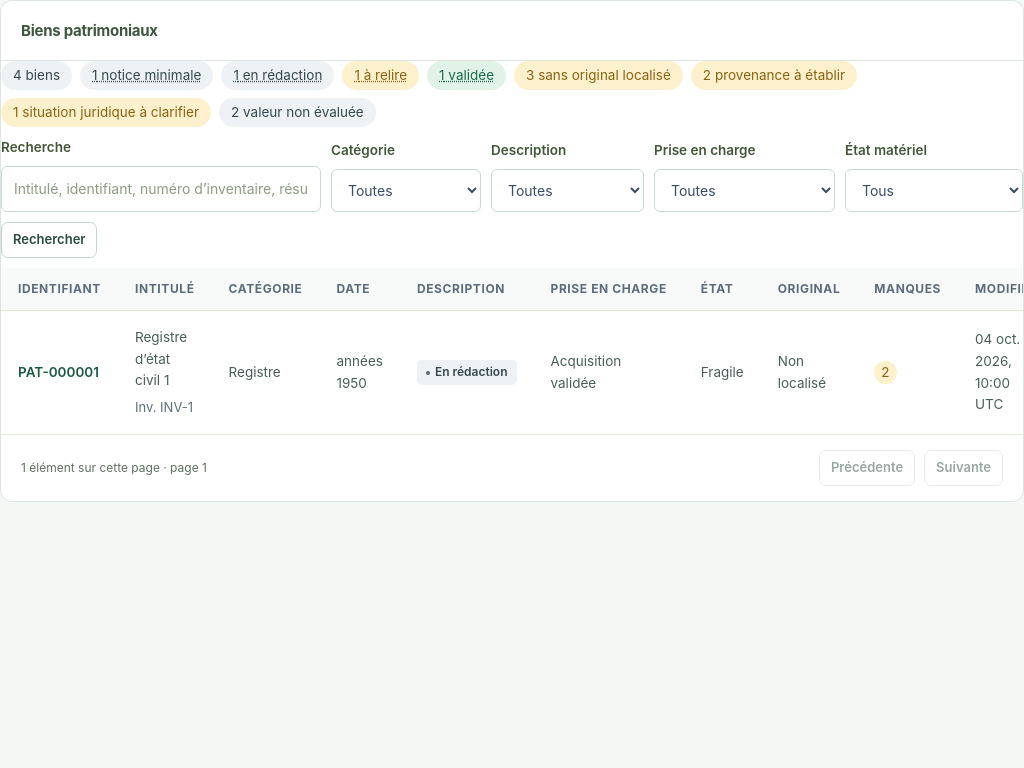
Test case: sans l’habilitation, le passage est désactivé et le titre dit laquelle manque
What coordinates should you click on to do the following:
click the button "PAT-000001"
I would click on:
 (58, 373)
Its box is [18,362,99,383].
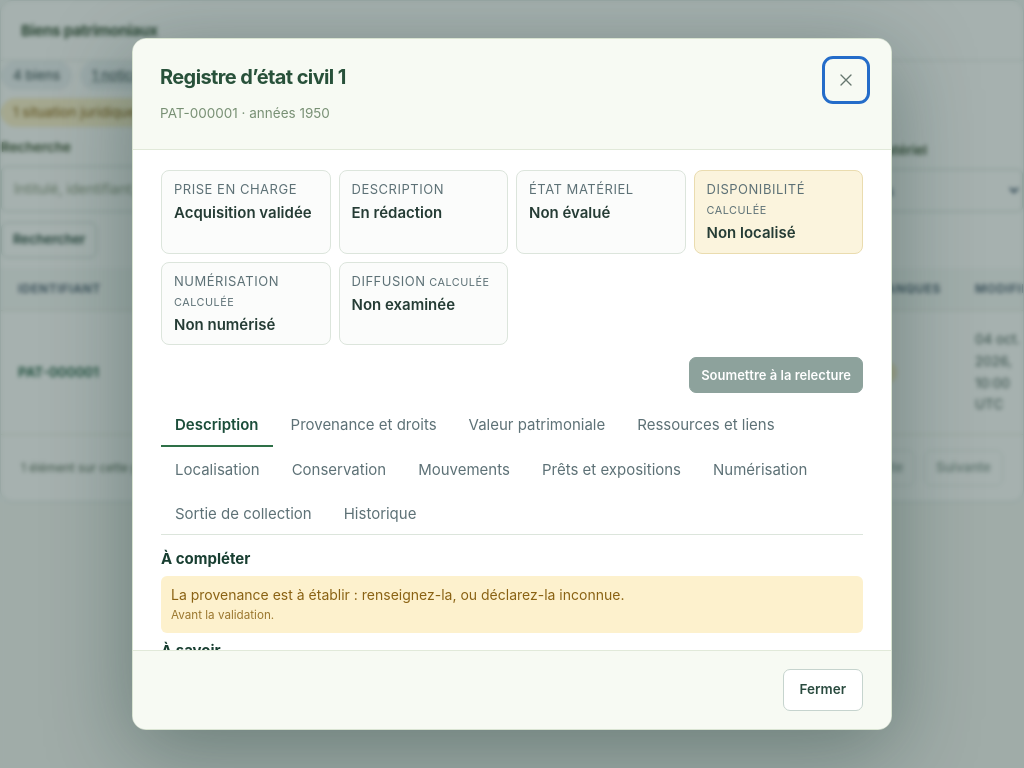
Expected: the button "Soumettre à la relecture" is disabled, [689,358,863,394]
